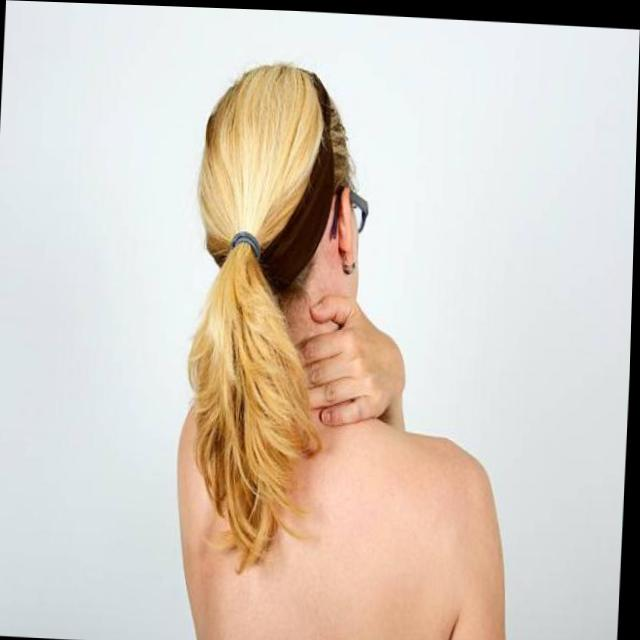no helmet: (189, 54, 367, 355)
